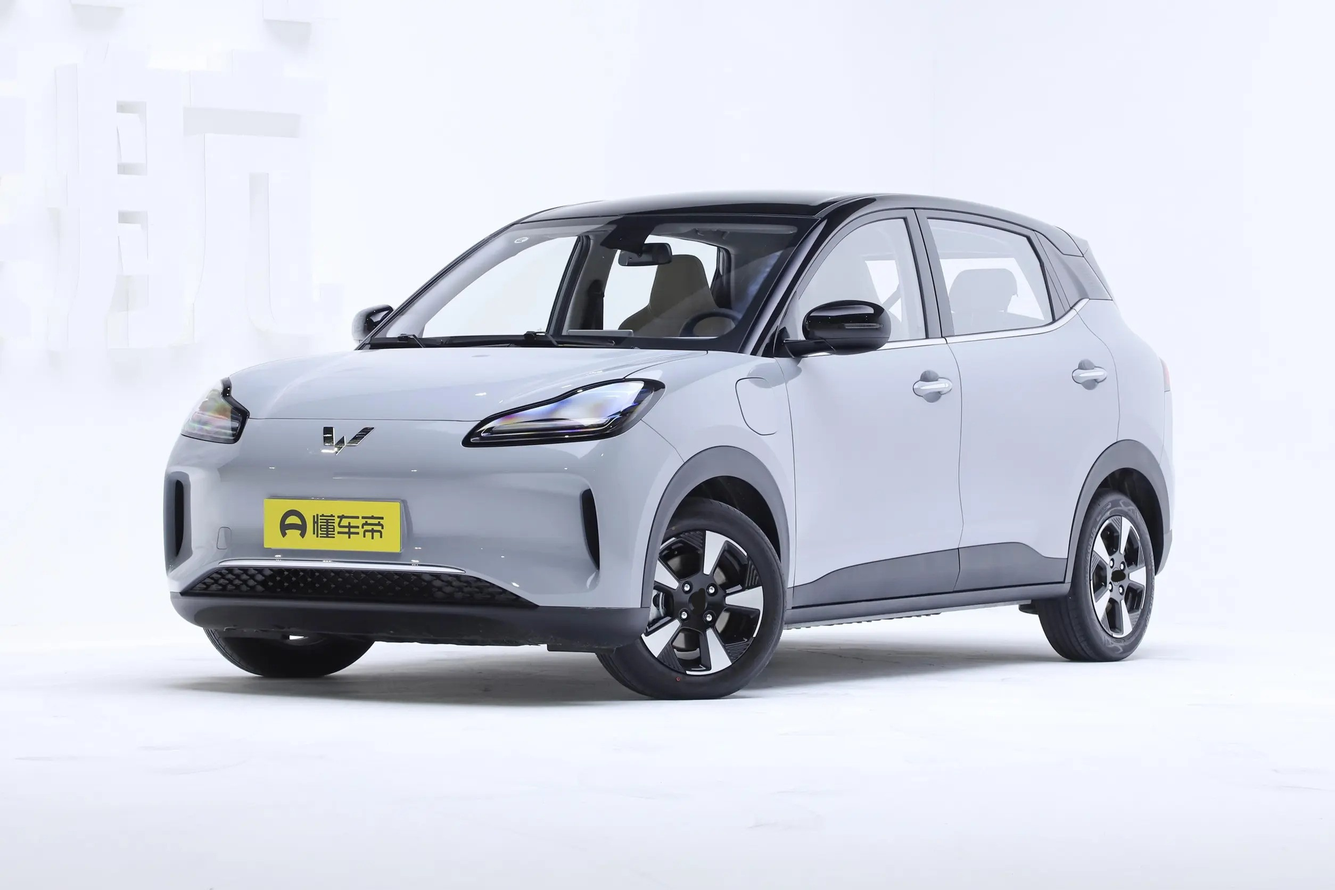SGMW: (323, 426, 375, 455)
